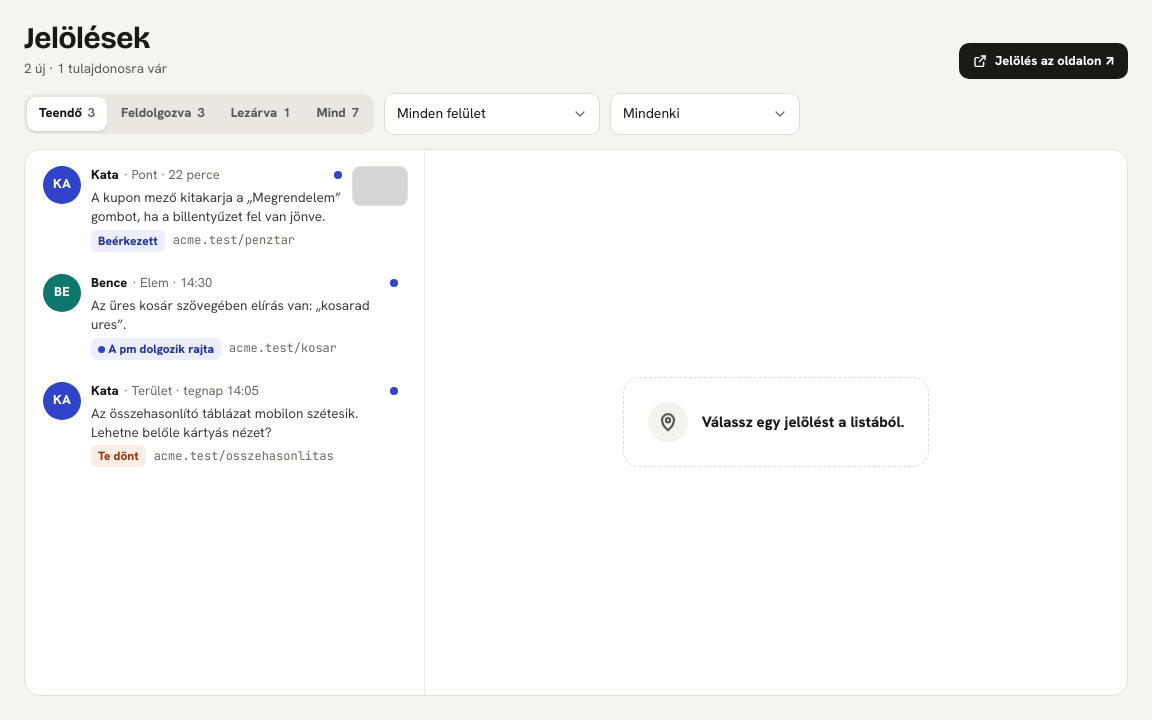
Scenario: opening the page of the product › closes the empty tab and says so when the server refuses
The image size is (1152, 720).
Click the button "Jelölés az oldalon ↗": (1044,61) [959,43,1128,79]
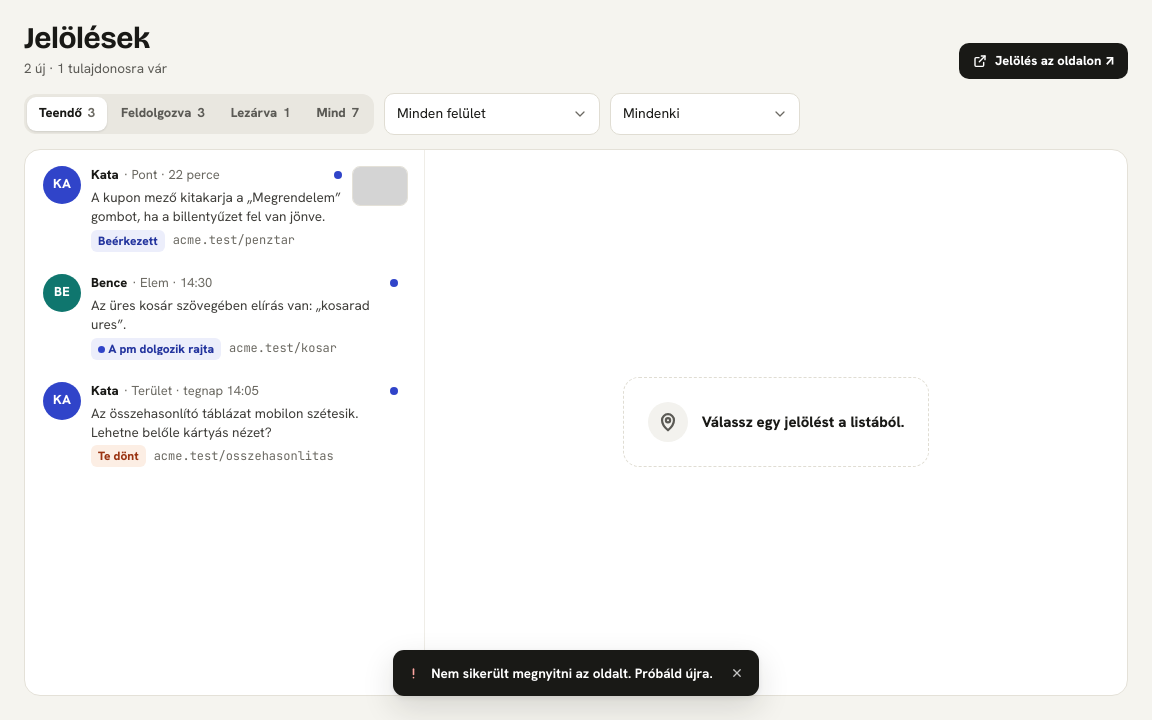
Now the text "Nem sikerült megnyitni az oldalt. Próbáld újra." is shown, box [431,664,713,682]
